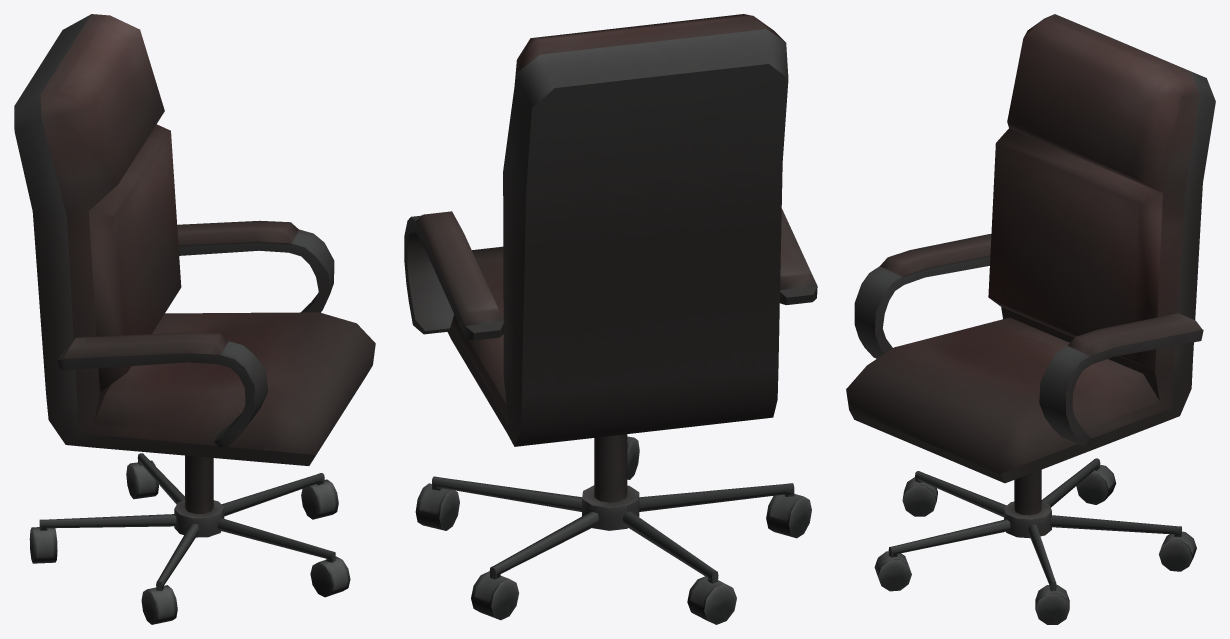
File: BgMD_Tanihira_KyoujuChair_0301.fbx
The picture shows the model from 3 angles, left to right: view 1: azimuth 30°, elevation 25°; view 2: azimuth 150°, elevation 25°; view 3: azimuth 270°, elevation 25°; orthographic projection. The views are drawn at different scales.
Visible parts, largest first — view 1: pCylinder17; view 2: pCylinder17; view 3: pCylinder17.
Boxes of the visible parts, x1,y1,x2,y2 form: pCylinder17: (14, 14, 375, 624); pCylinder17: (404, 14, 817, 624); pCylinder17: (846, 14, 1215, 624).
Bounding box in the file's own units: 76.44 × 109 × 76.44.
